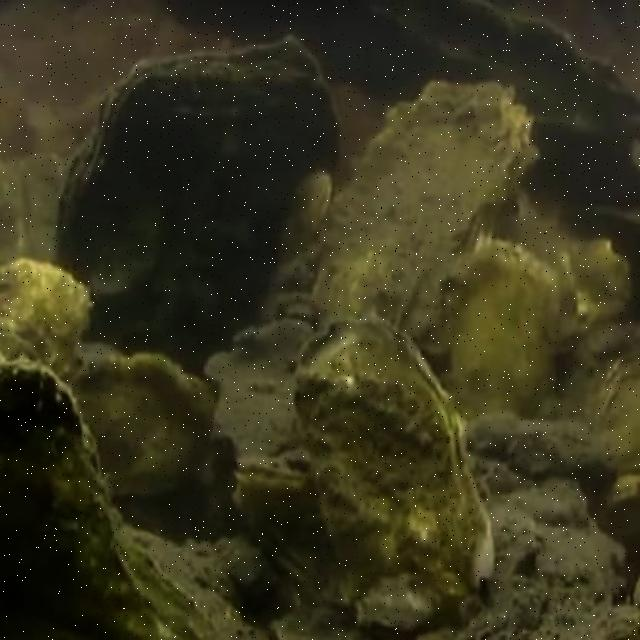Oyster-Closed: (61, 41, 345, 369), (293, 312, 488, 630), (0, 360, 213, 640), (306, 78, 538, 330), (63, 358, 222, 500), (447, 235, 559, 427), (0, 254, 100, 360), (261, 528, 322, 582)
